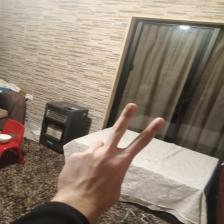two: (71, 104, 166, 207)
